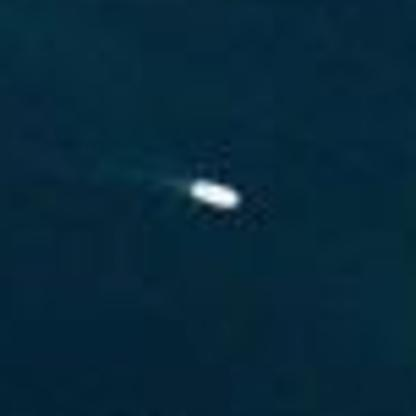ship: (184, 172, 250, 216)
